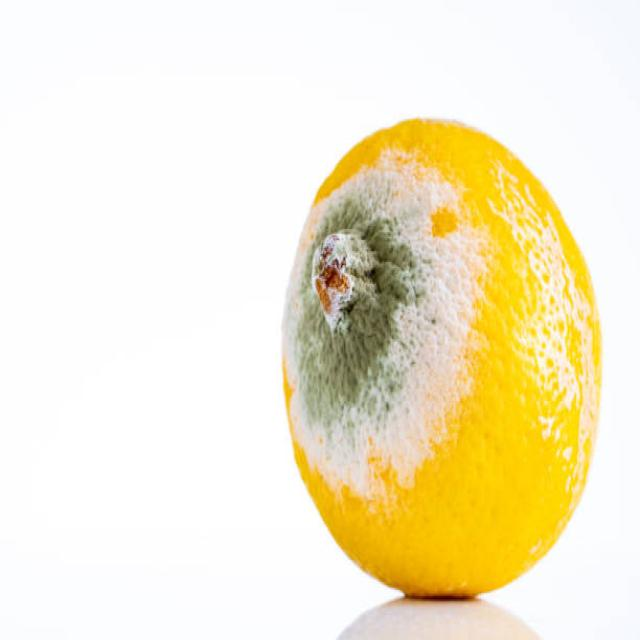Rotten: (279, 114, 603, 595)
